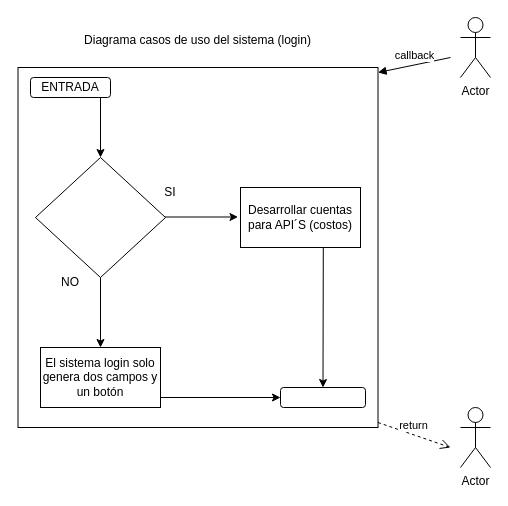
Some shapes in this 508 by 506 pixel diagram are drawn without their labels. Here are the shapes that lost their labels. From the top down, the centre of each, then its label:
point 100,217: El login tiene acceso con API´S
point 323,397: SALIDA
